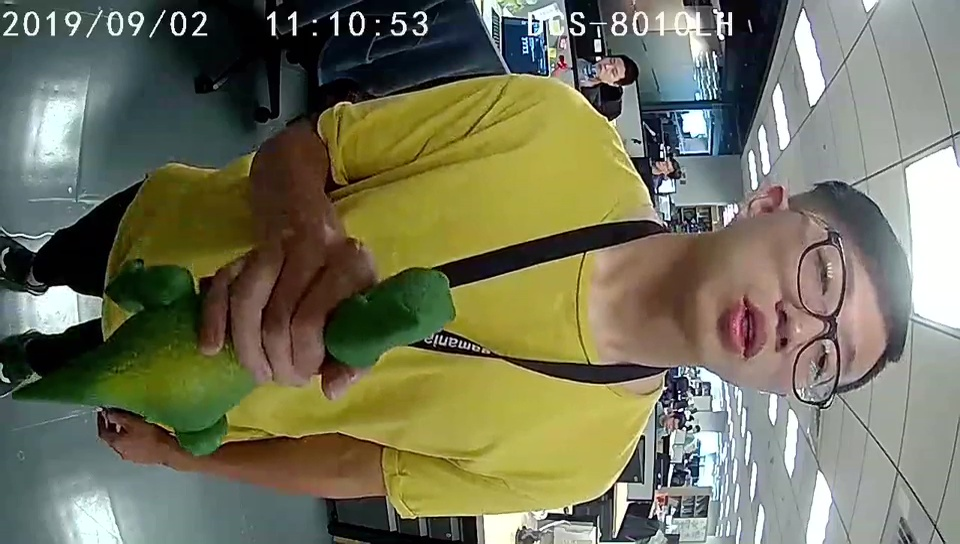rex: (130, 265, 459, 455)
